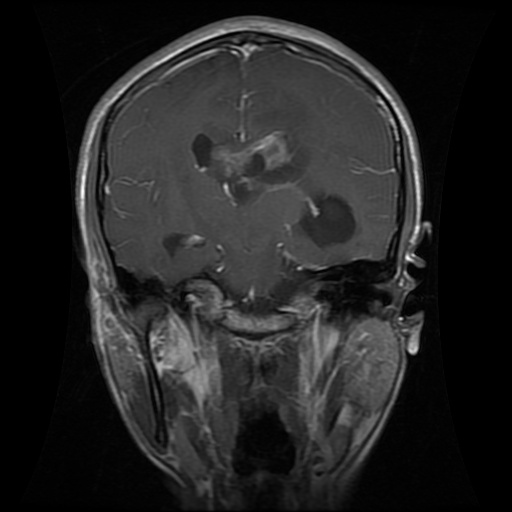glioma: (186, 118, 315, 207)
